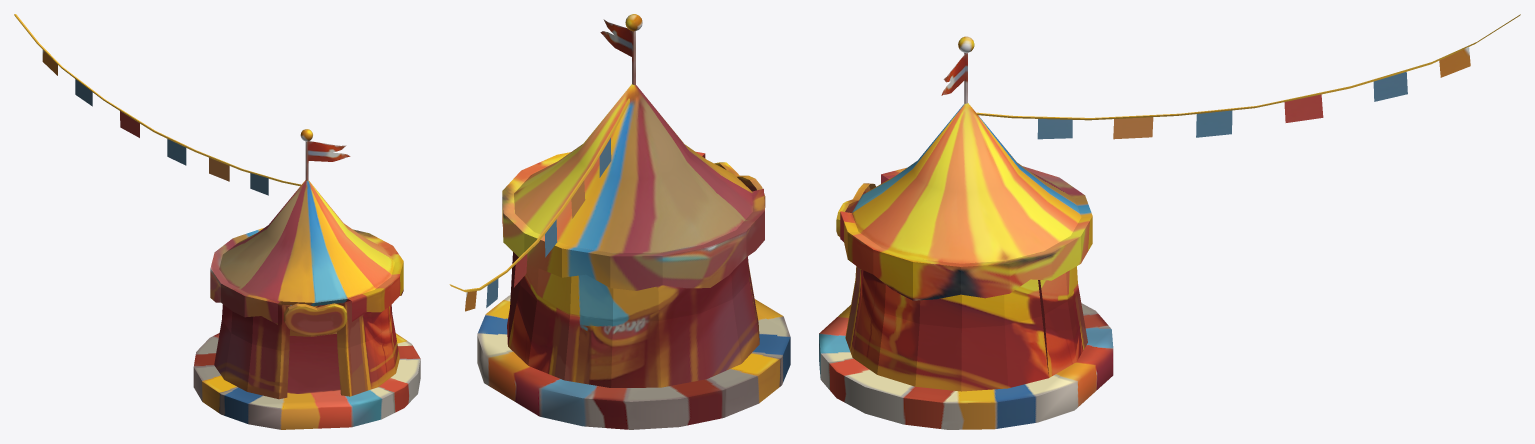
Rendered from stage_carnival_2.fbx.
The picture shows the model from 3 angles, left to right: view 1: azimuth 30°, elevation 25°; view 2: azimuth 150°, elevation 25°; view 3: azimuth 270°, elevation 25°; orthographic projection. The views are drawn at different scales.
Parts seen in each view (by area): view 1: 3, 2, 1; view 2: 3, 2, 1; view 3: 3, 2, 1.
Boxes of the visible parts, x1,y1,x2,y2 form: 3: (14,14,403,335); 2: (205,248,406,404); 1: (193,333,420,429); 3: (449,14,765,311); 2: (495,177,781,395); 1: (477,295,790,429); 3: (836,14,1520,300); 2: (830,201,1103,394); 1: (819,303,1113,429).
Bounding box in the file's own units: 227 × 281 × 541.
